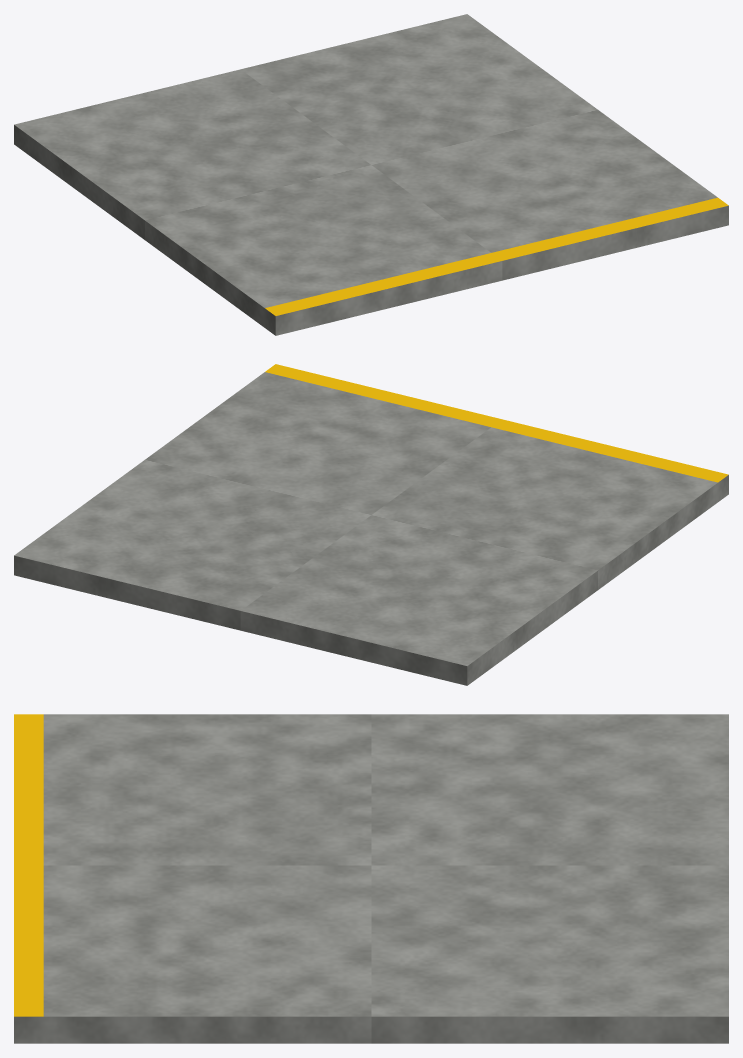
Rendered from floor_concrete_120.glb.
3 views of the same model, one above another, from view 1: azimuth 30°, elevation 25°; view 2: azimuth 150°, elevation 25°; view 3: azimuth 270°, elevation 25° (orthographic). The views are drawn at different scales.
Parts seen in each view (by area): view 1: floor_concrete_120-col; view 2: floor_concrete_120-col; view 3: floor_concrete_120-col.
Part boxes in pixels (x1,y1,x2,y2): floor_concrete_120-col: (14,14,728,335); floor_concrete_120-col: (14,364,728,685); floor_concrete_120-col: (14,714,728,1043).
Size of the model in its own units: 1.2 by 0.05 by 1.2.
2 materials, 2 textured.
